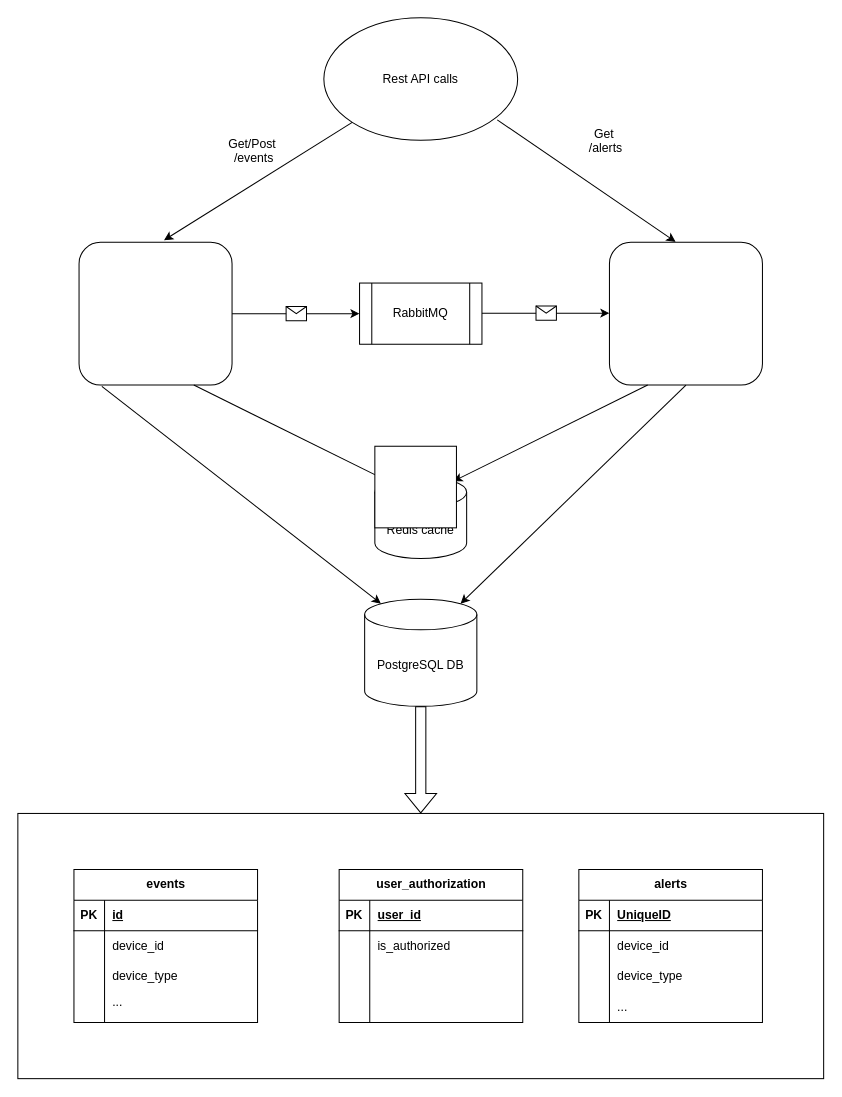
This 842x1097 diagram has some shape labels left out. Here are the shapes that lost their labels. From the top down, the centre of each, then its label:
point 155,313: Ingestion Service
point 685,313: Alerting Service
